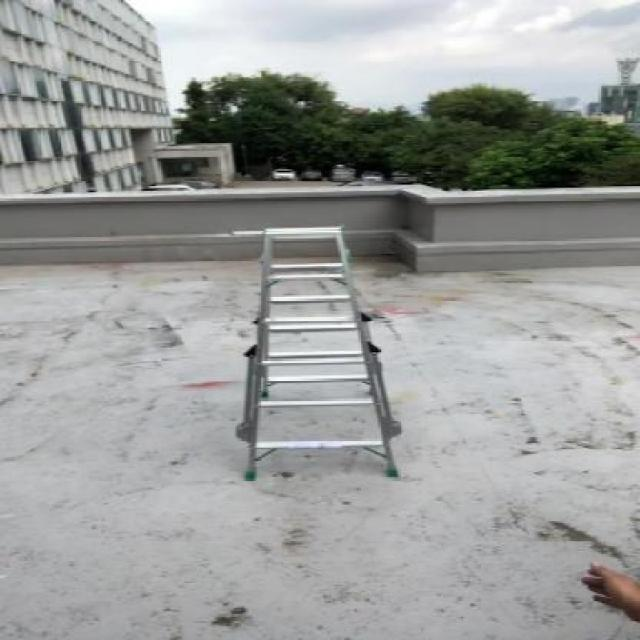hard hat: (228, 222, 420, 493)
